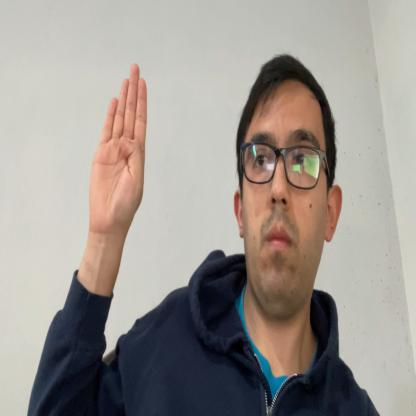B: (89, 63, 147, 237)
